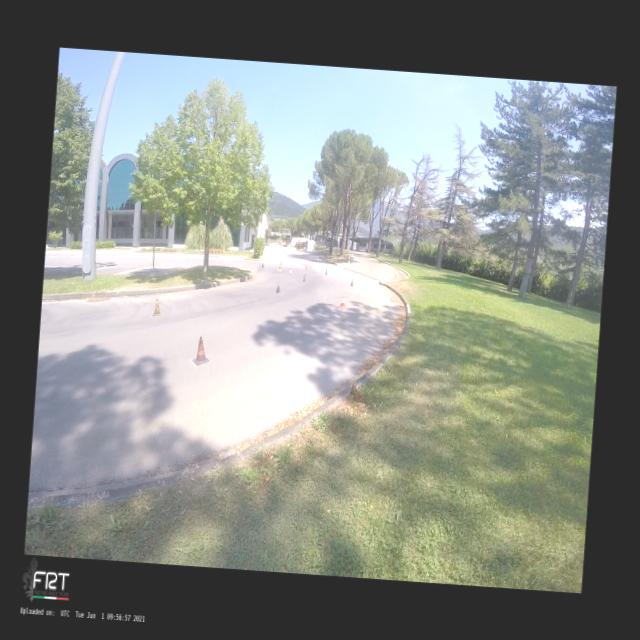large_orange_cone: (192, 336, 210, 366), (302, 274, 306, 282)
orange_cone: (338, 294, 346, 308), (289, 268, 292, 274)
unknown_cone: (151, 298, 163, 316), (274, 282, 280, 294), (349, 278, 354, 286), (324, 268, 328, 275), (260, 262, 264, 268), (304, 264, 307, 269), (280, 259, 282, 264)
yellow_cone: (278, 264, 281, 270)
